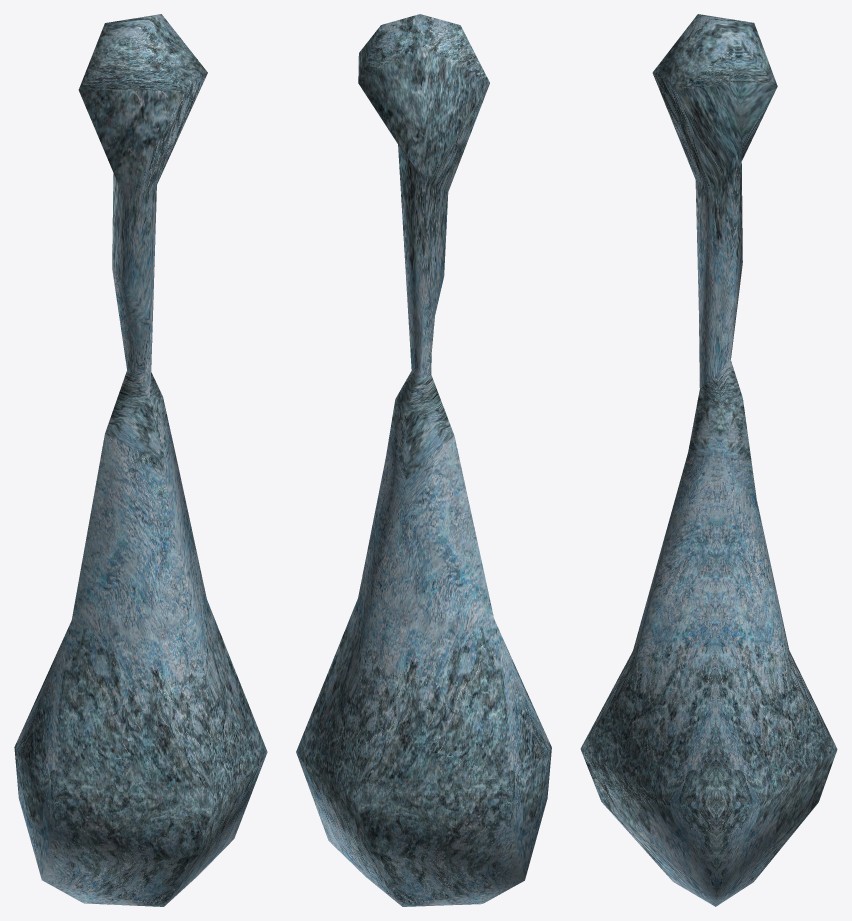
Rendered from thm_all_cave_column_ice_a2_l2.fbx.
The picture shows the model from 3 angles, left to right: view 1: azimuth 30°, elevation 25°; view 2: azimuth 150°, elevation 25°; view 3: azimuth 270°, elevation 25°; orthographic projection.
Visible parts, largest first — view 1: mesh_node; view 2: mesh_node; view 3: mesh_node.
Boxes of the visible parts, left/top/right/bottom form: mesh_node: left=14, top=14, right=267, bottom=906; mesh_node: left=296, top=14, right=551, bottom=906; mesh_node: left=580, top=14, right=837, bottom=906.
Size of the model in its own units: 2.49 by 8.85 by 2.39.
